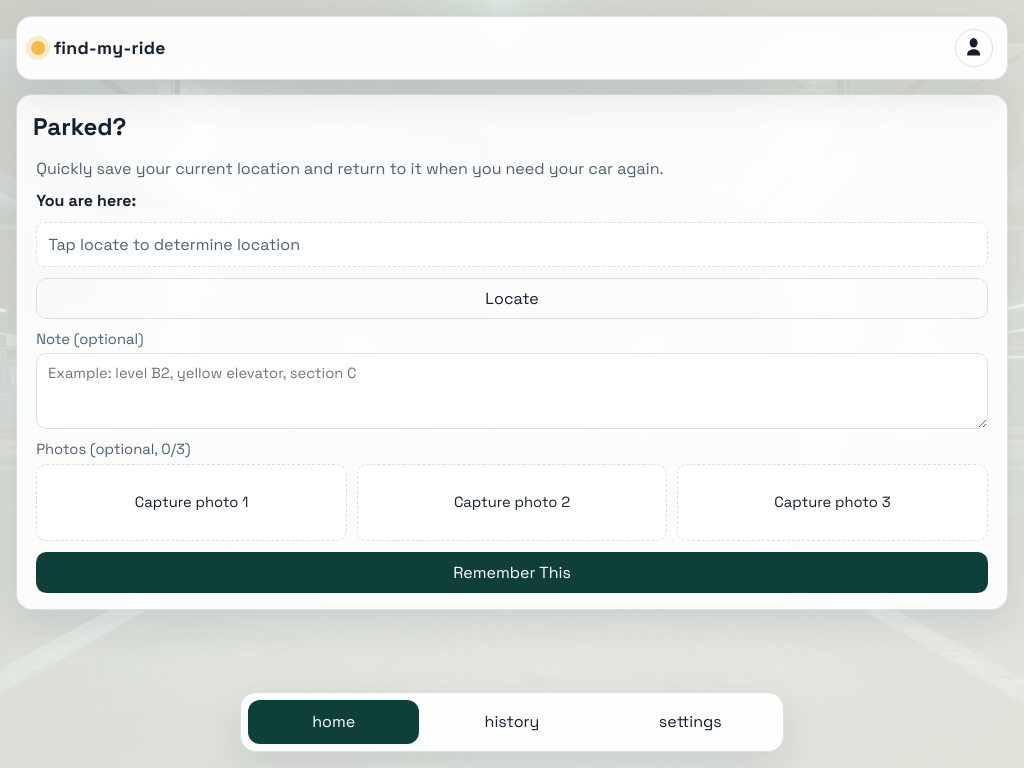
Test case: App tabs and settings › shows signed-in user menu in top bar and signs out from menu
The width and height of the screenshot is (1024, 768).
expect the heading "Parked?" is shown: met, box [33,111,126,142]
Click the heading named "Open user menu". click: (974, 48)
box: [955,29,993,67]
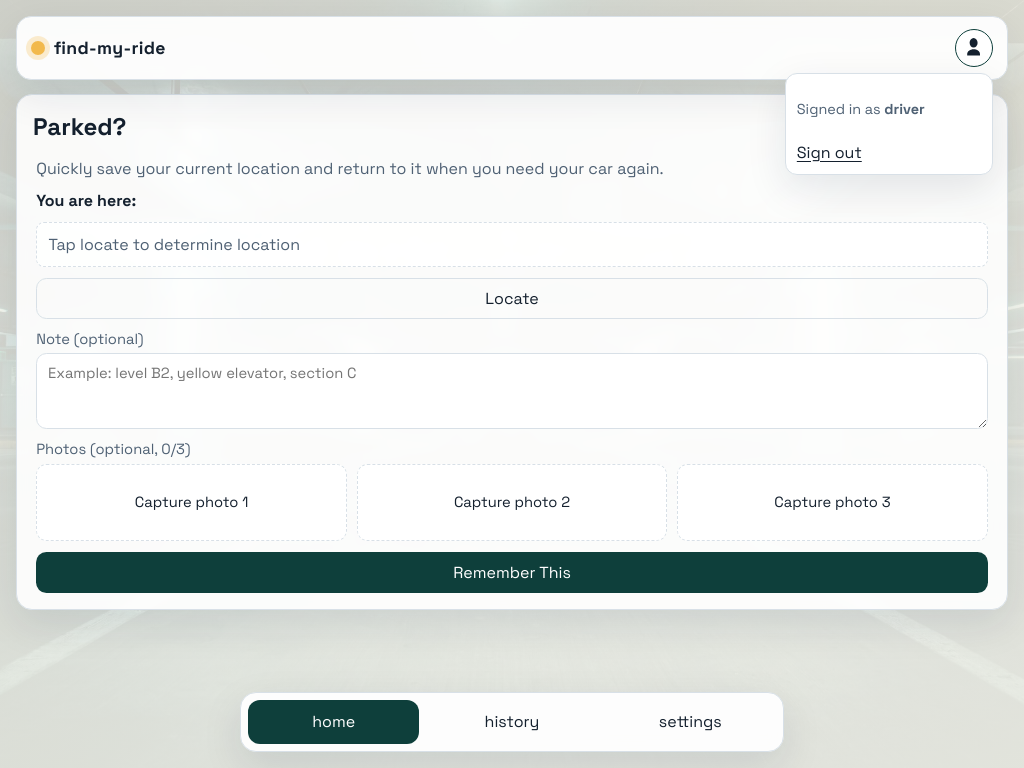
expect the text "Signed in as" is shown: met, box [797,100,884,118]
expect the text "driver" is shown: met, box [884,100,925,118]
Click the button "Sign out". click: (829, 152)
box: [797,142,862,162]
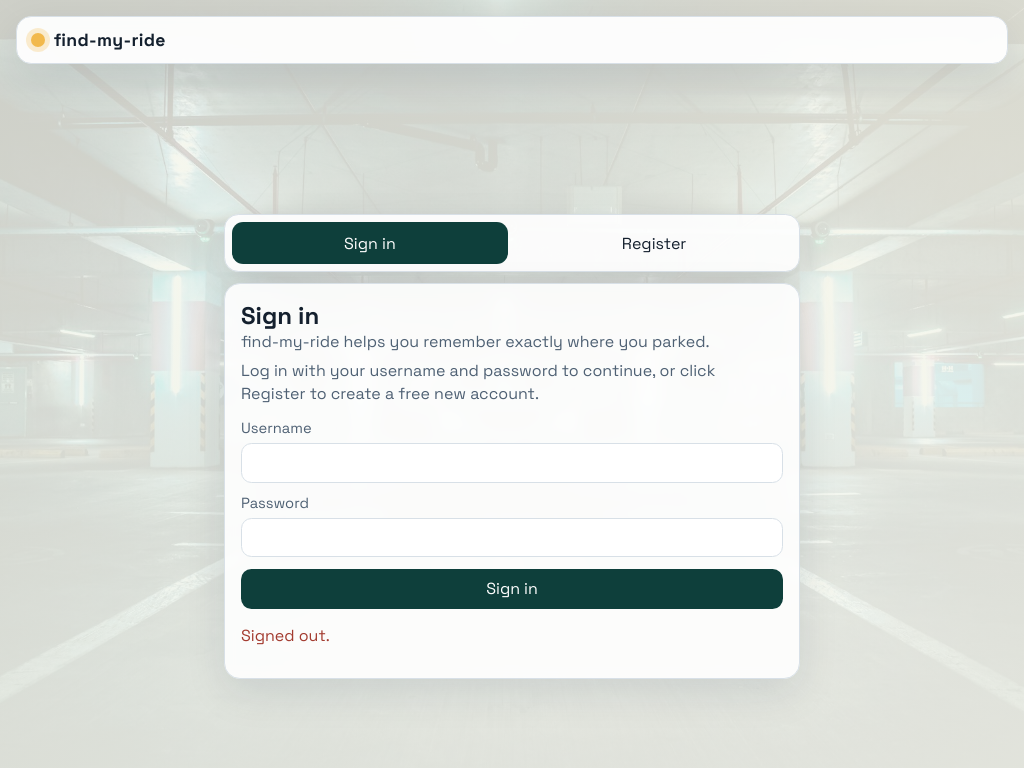
expect the heading "Sign in" is shown: met, box [241,300,319,331]
